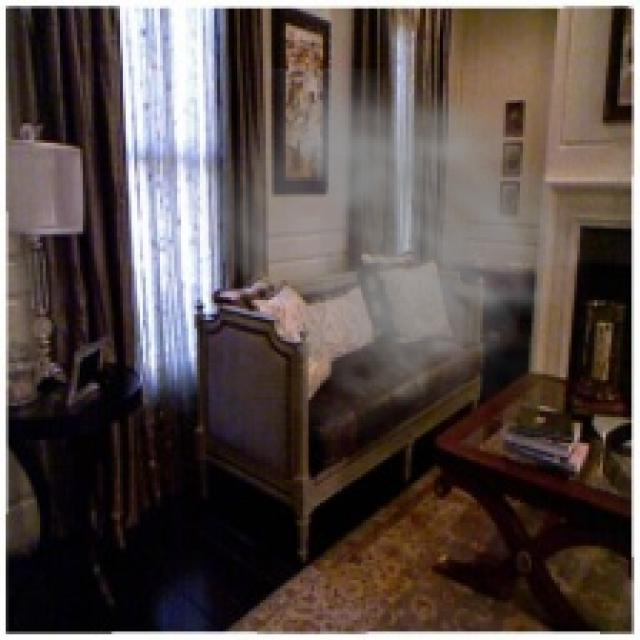smoke: (189, 68, 600, 446)
